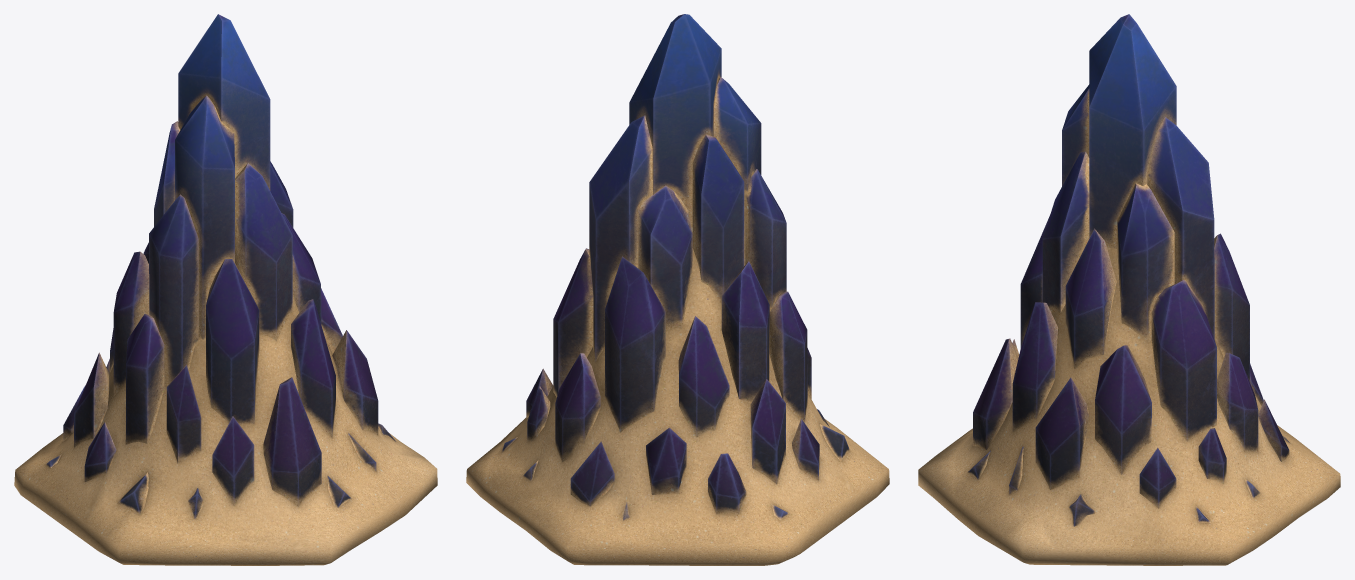
File: SM_Crystal_Wall_01.fbx
3 renders of one model, left to right at view 1: azimuth 30°, elevation 25°; view 2: azimuth 150°, elevation 25°; view 3: azimuth 270°, elevation 25°, orthographic.
Parts seen in each view (by area): view 1: SM_Crystal_Wall_01; view 2: SM_Crystal_Wall_01; view 3: SM_Crystal_Wall_01.
Boxes of the visible parts, x1=… form: SM_Crystal_Wall_01: x1=14, y1=14, x2=437, y2=565; SM_Crystal_Wall_01: x1=466, y1=14, x2=889, y2=565; SM_Crystal_Wall_01: x1=918, y1=14, x2=1340, y2=565.
Bounding box in the file's own units: 183 × 257 × 207.
